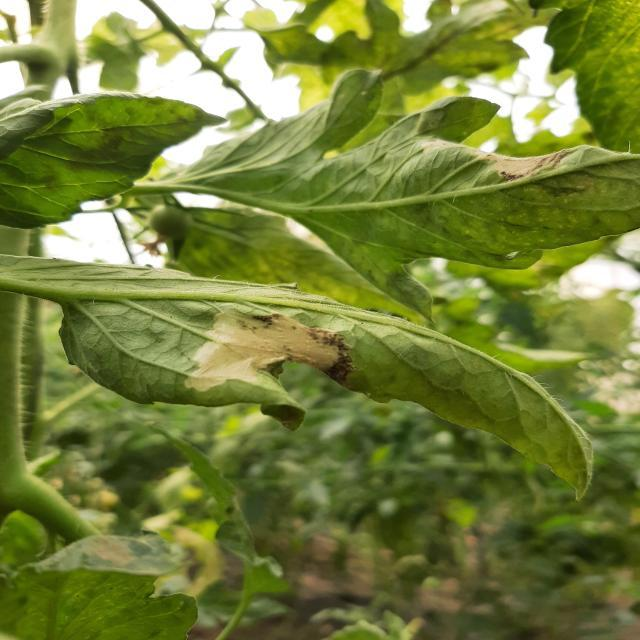Tuta absoluta: (178, 298, 352, 393), (473, 149, 571, 181)
